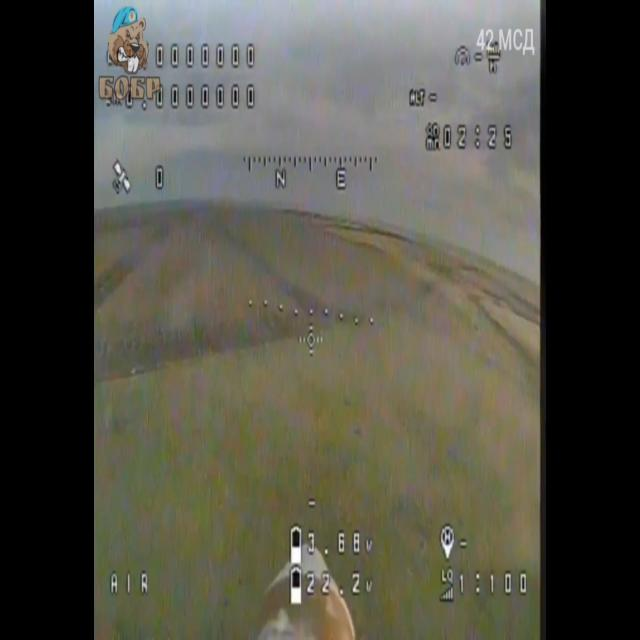cars: (130, 363, 148, 376), (263, 341, 270, 347)
